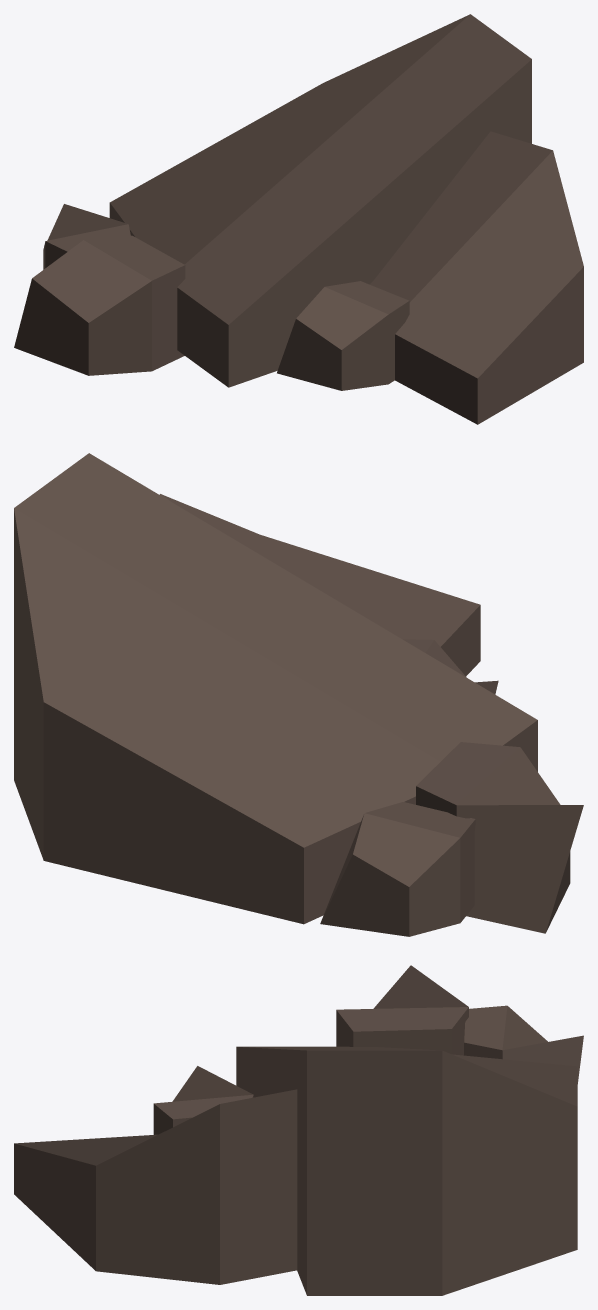
Rendered from 18 Stone_4.FBX.
3 renders of one model, top to bottom at view 1: azimuth 30°, elevation 25°; view 2: azimuth 150°, elevation 25°; view 3: azimuth 270°, elevation 25°, orthographic. The views are drawn at different scales.
Parts seen in each view (by area): view 1: Rock Type5 01 mesh; view 2: Rock Type5 01 mesh; view 3: Rock Type5 01 mesh.
Boxes of the visible parts, bbox=[...] form: Rock Type5 01 mesh: bbox=[14, 14, 583, 424]; Rock Type5 01 mesh: bbox=[14, 453, 583, 936]; Rock Type5 01 mesh: bbox=[14, 965, 583, 1295].
Bounding box in the file's own units: 848 × 416 × 840.
